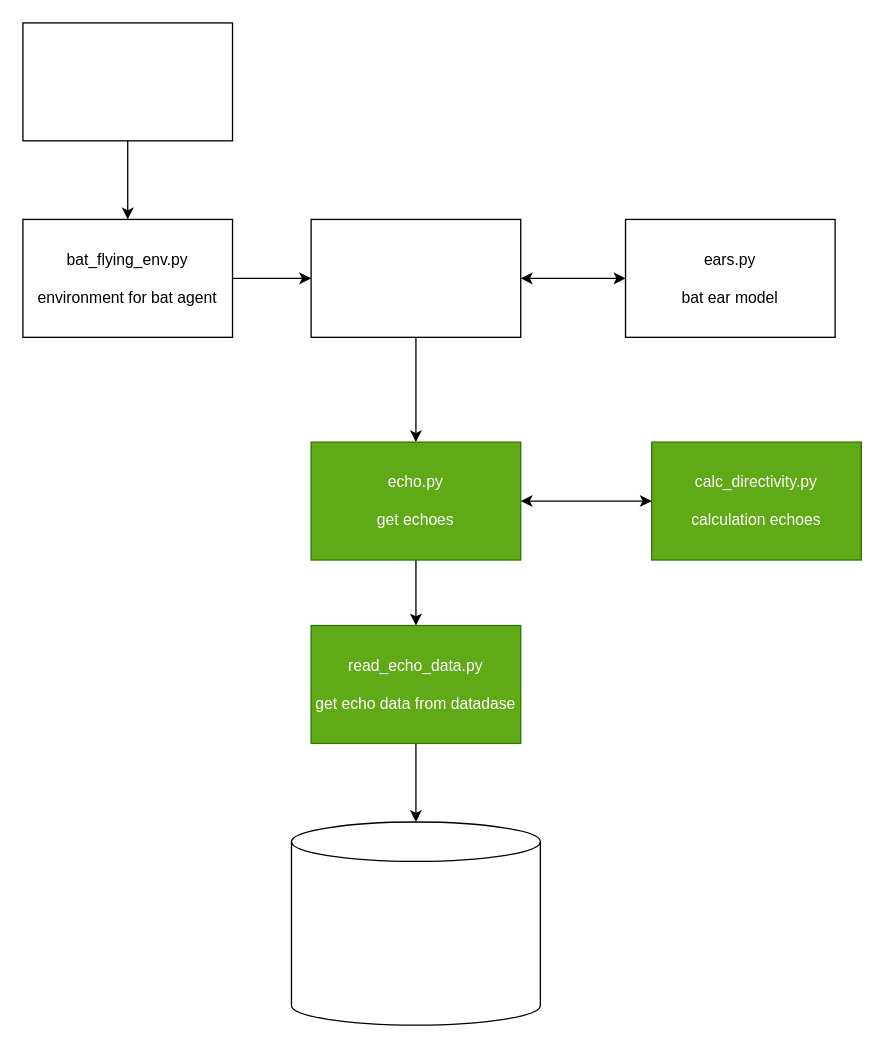
This 884x1048 diagram has some shape labels left out. Each missing label, with the box of its shape:
Echo database data name : x_y.bin ex. 200_200.bin: (290, 821, 540, 1025)
fdtd_bat.py bat agent parameter: (310, 218, 521, 337)
ppo_pfrl.py main script reinforcement learning: (22, 22, 233, 141)
